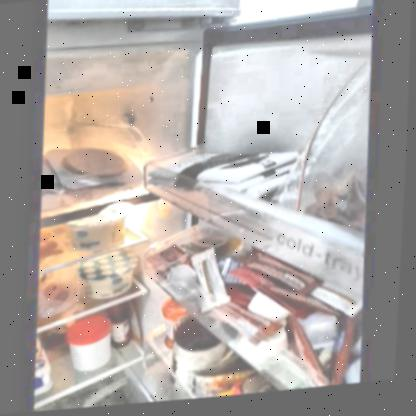chocolate: (160, 149, 292, 199)
dates: (307, 166, 371, 234)
salami: (61, 144, 132, 186)
yoghurt: (70, 212, 131, 250), (86, 257, 139, 299)
